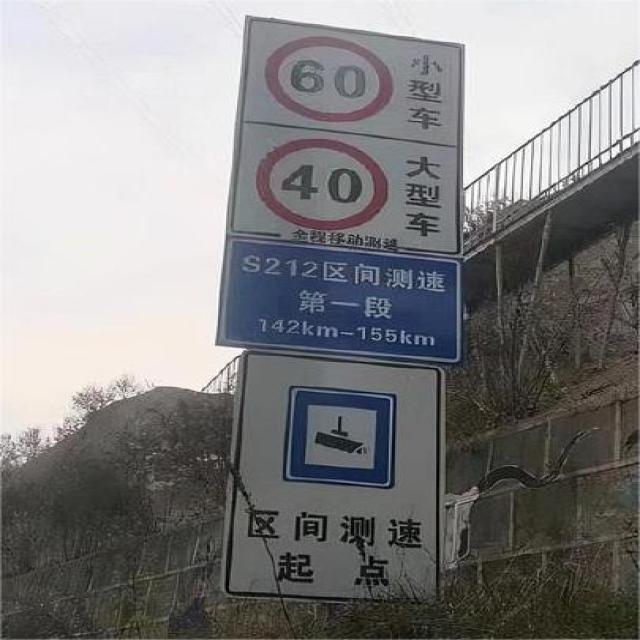speed limit 40: (256, 138, 388, 231)
speed limit 60: (262, 36, 395, 123)
